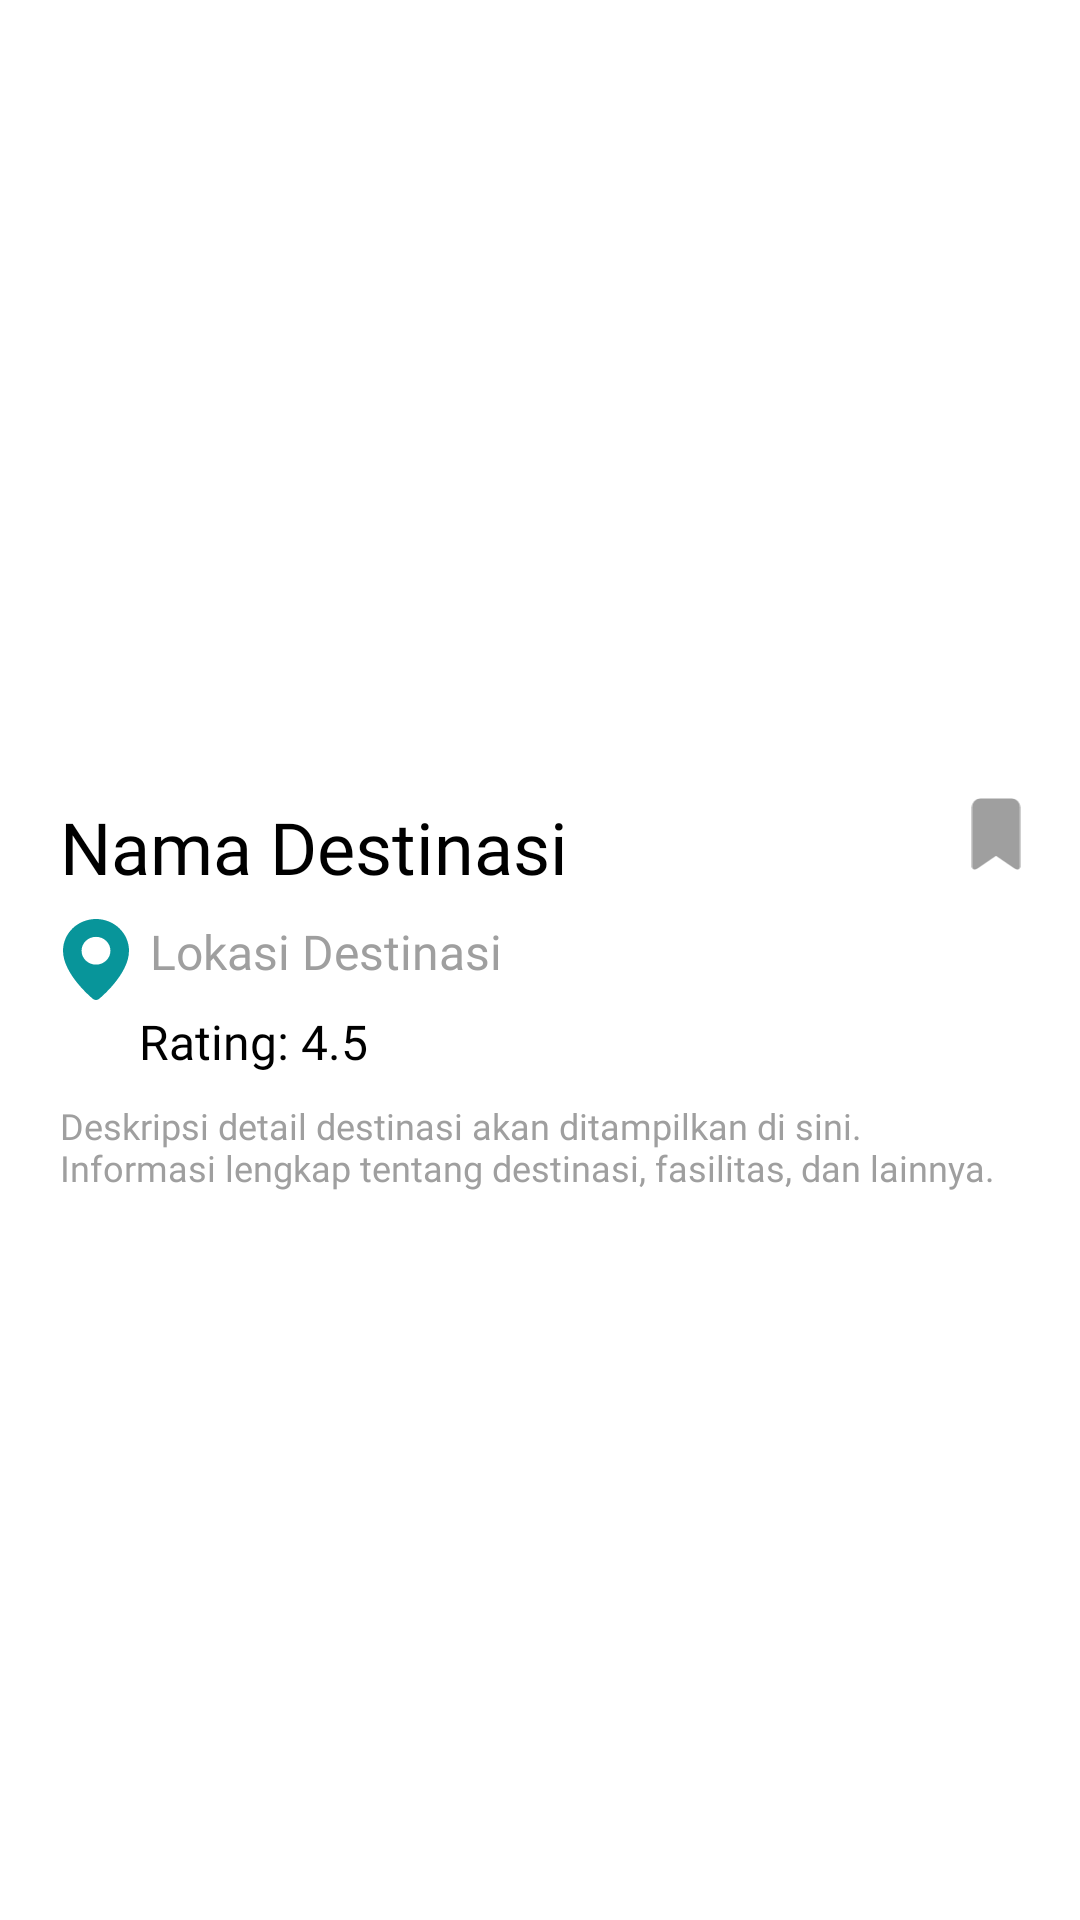

Icons on this 1080 × 1920 Android screen, each with the point to tap as (x=x, y=y):
favoritsaya: (x=996, y=834)
